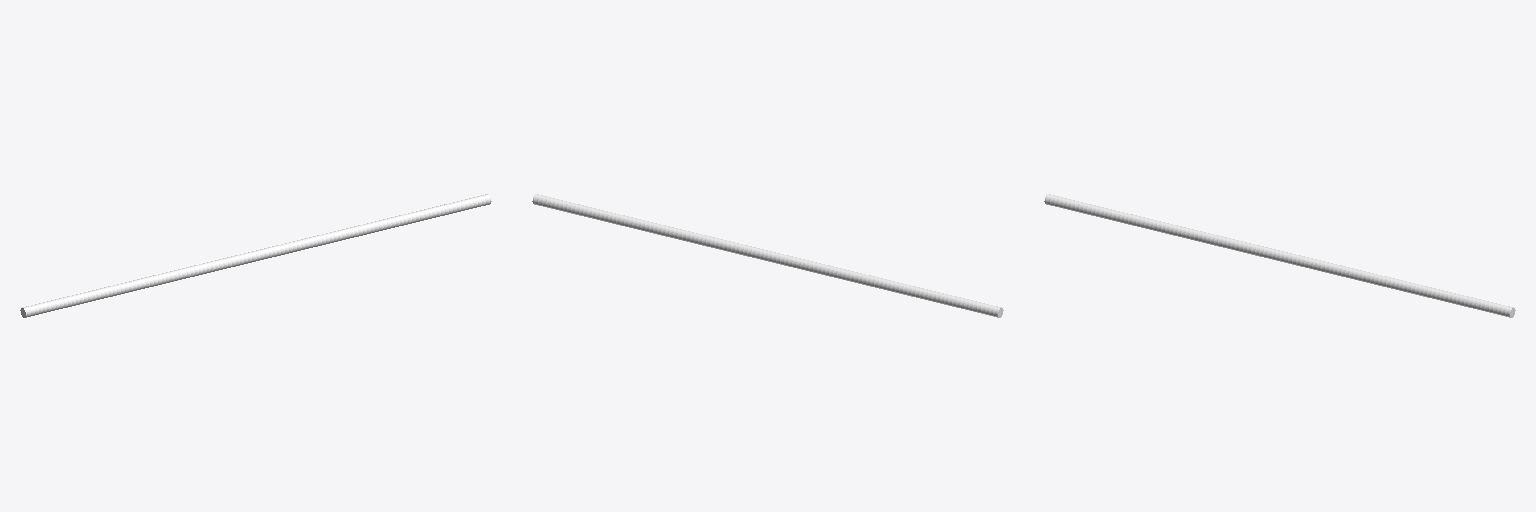
robot.urdf — laid_down_cylinder:
<?xml version="1.0"?>
<robot name="laid_down_cylinder">

  <!-- Single link representing a horizontally oriented (laid-down) cylinder -->
  <link name="cylinder_link">

    <!-- Inertial properties -->
    <inertial>
      <!-- Center of mass at the geometric center; rotated so cylinder’s length lies along X -->
      <origin xyz="0 0 0" rpy="0 1.5708 0"/>
      <!-- Mass of 0.5 kg -->
      <mass value="0.5"/>
      <!-- Inertia for a solid cylinder (radius 0.02 m, length 1.0 m) whose principal axis is along X -->
      <!-- ixx was izz before (axis along cylinder), and izz was ixx/iyy before -->
      <inertia
        ixx="0.00010"  ixy="0.0"    ixz="0.0"
        iyy="0.04172"  iyz="0.0"
        izz="0.04172"/>
    </inertial>

    <!-- Visual representation -->
    <visual>
      <!-- Rotate visual so the cylinder’s long axis points along X -->
      <origin xyz="0 0 0" rpy="0 1.5708 0"/>
      <geometry>
        <!-- Radius 0.02 m, length 2.0 m -->
        <cylinder radius="0.02" length="2.0"/>
      </geometry>
      <material name="SmoothWhite">
        <color rgba="1.0 1.0 1.0 1.0"/>
      </material>
    </visual>

    <!-- Collision geometry (matches visual) -->
    <collision>
      <origin xyz="0 0 0" rpy="0 1.5708 0"/>
      <geometry>
        <cylinder radius="0.02" length="1.0"/>
      </geometry>
    </collision>

  </link>

</robot>

--- Facts derived from the render (not from the file) ---
The picture shows the robot from 3 angles, left to right: view 1: azimuth 30°, elevation 25°; view 2: azimuth 150°, elevation 25°; view 3: azimuth 330°, elevation 25°; orthographic projection.
Robot: laid_down_cylinder — 1 links, 0 joints (none); root link cylinder_link; default pose: all joints at 0.
Links seen in each view (by area): view 1: cylinder_link; view 2: cylinder_link; view 3: cylinder_link.
Link boxes in pixels (bbox=[...]): cylinder_link: bbox=[20, 194, 491, 317]; cylinder_link: bbox=[532, 194, 1003, 317]; cylinder_link: bbox=[1044, 194, 1515, 317].
Bounding box of the posed robot: 2 × 0.04 × 0.04 m (x, y, z).
Geometry: primitives only (box / cylinder / sphere), no mesh files.
